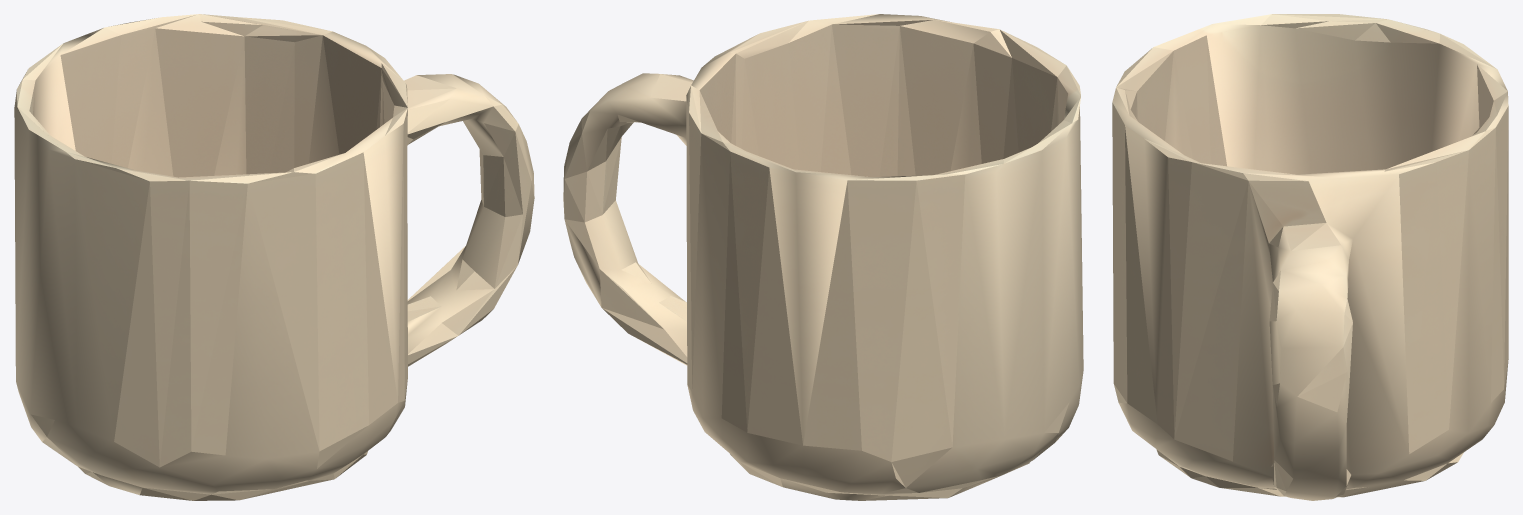
File: IT_Clutter_Cup.fbx
3 views of the same model, side by side, from view 1: azimuth 30°, elevation 25°; view 2: azimuth 150°, elevation 25°; view 3: azimuth 270°, elevation 25° (orthographic).
Visible parts, largest first — view 1: Mesh_0; view 2: Mesh_0; view 3: Mesh_0.
Part boxes in pixels (x1=…): Mesh_0: x1=14, y1=14, x2=534, y2=500; Mesh_0: x1=563, y1=14, x2=1083, y2=500; Mesh_0: x1=1112, y1=14, x2=1508, y2=500.
Bounding box in the file's own units: 189 × 128 × 135.
Materials: 1 (1 with a texture image).
